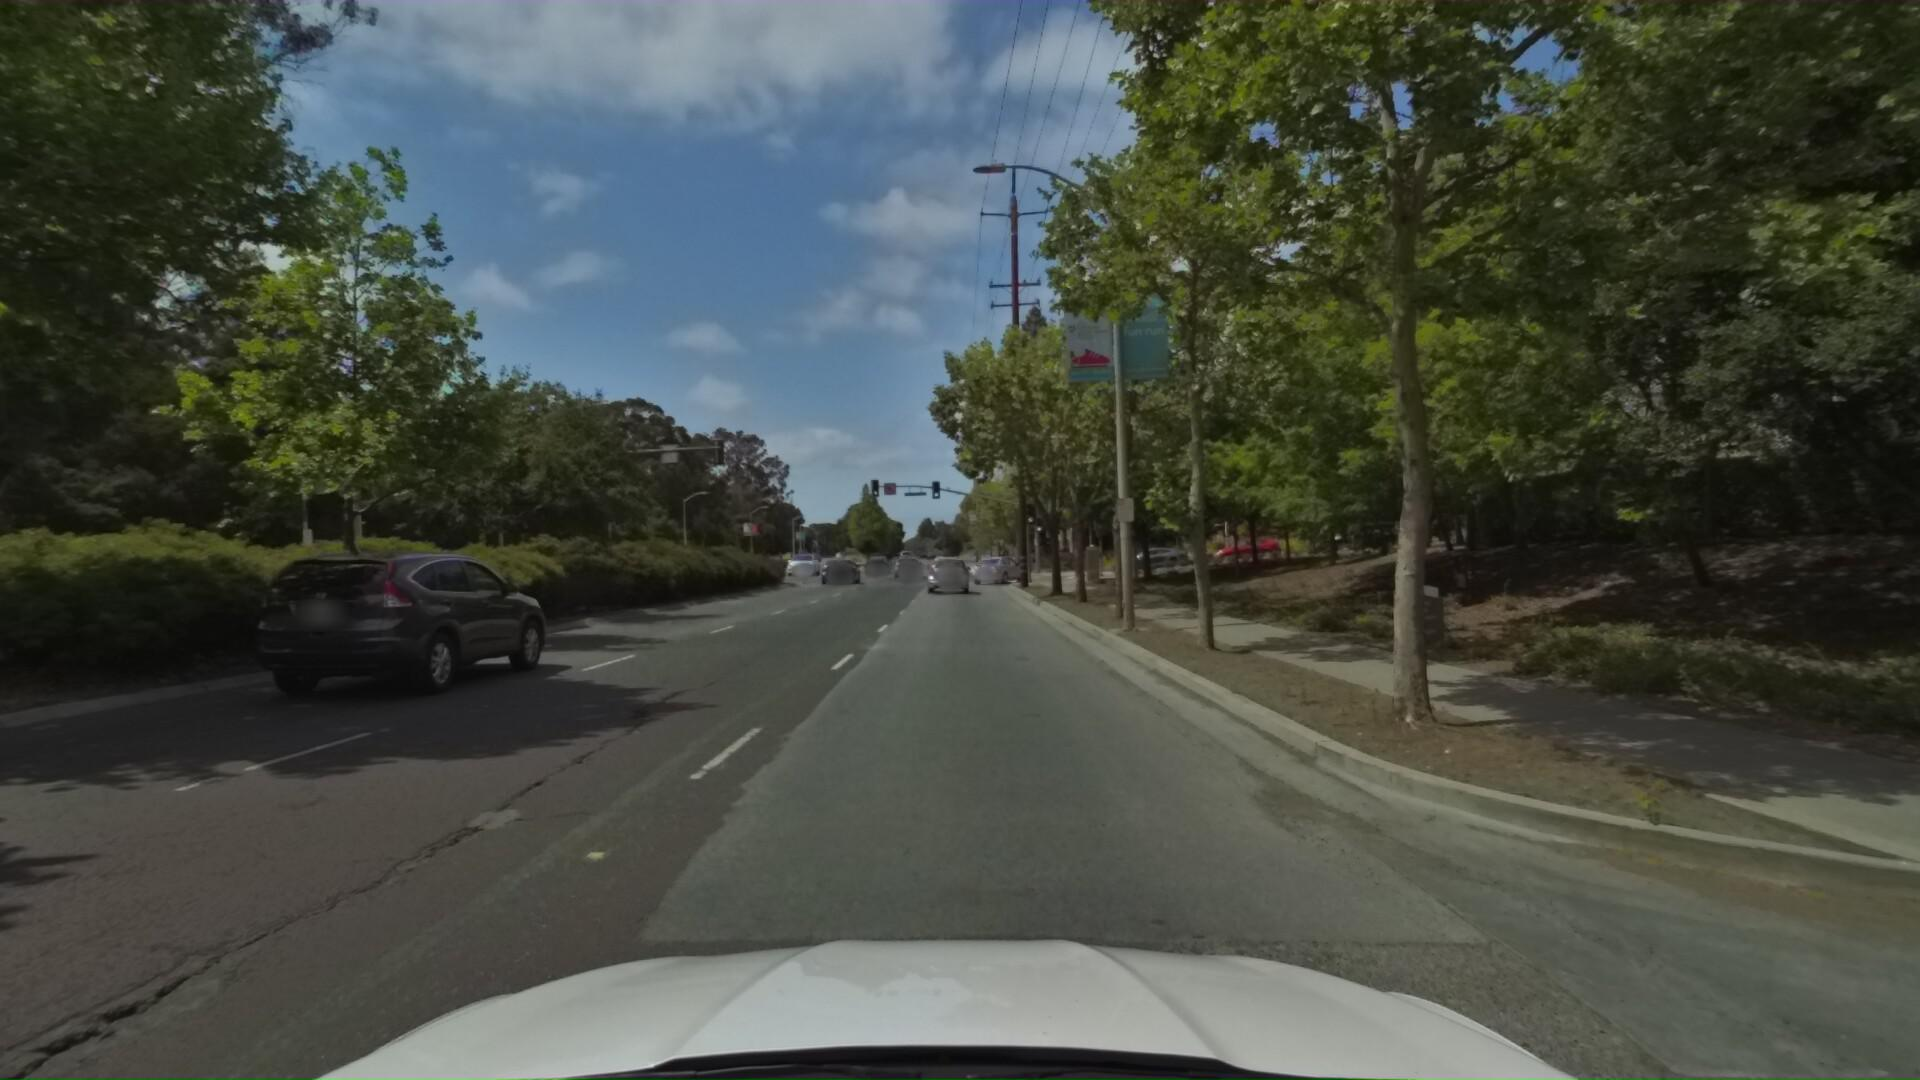car: (243, 550, 575, 713), (1323, 517, 1407, 549), (922, 550, 973, 600), (1110, 542, 1188, 570), (1211, 533, 1284, 560), (968, 555, 1029, 587), (816, 556, 862, 587), (785, 549, 822, 574), (891, 553, 924, 575), (864, 555, 890, 574)
